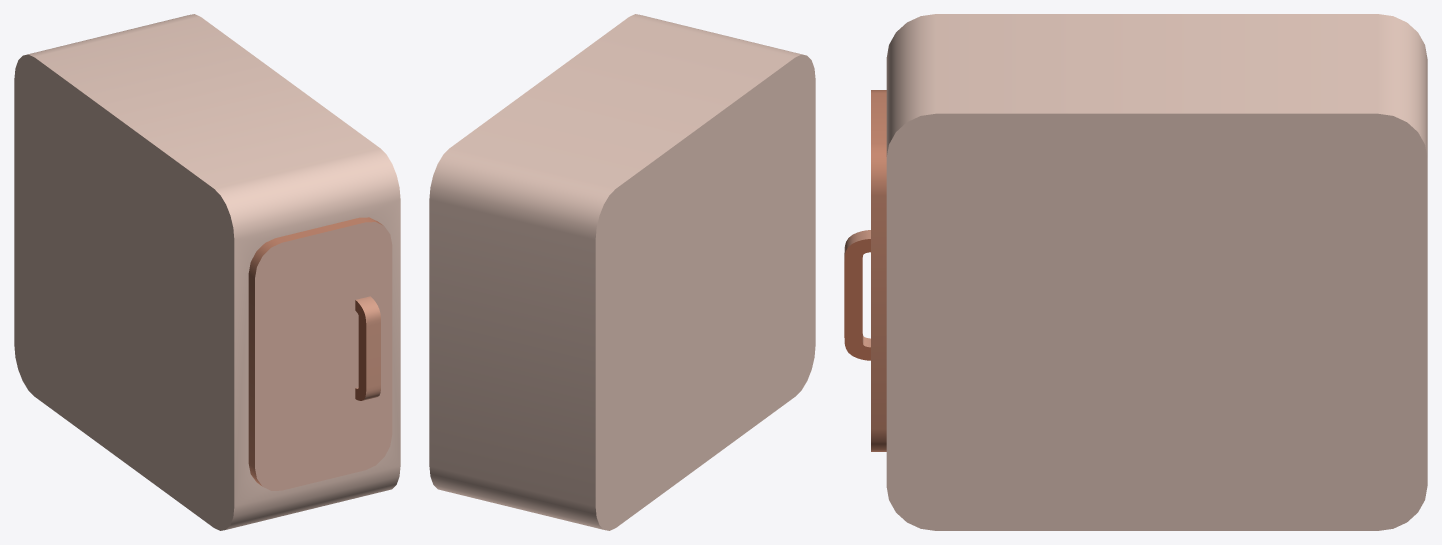
The model's file is Cupboard E.fbx.
The picture shows the model from 3 angles, left to right: view 1: azimuth 30°, elevation 25°; view 2: azimuth 150°, elevation 25°; view 3: azimuth 270°, elevation 25°; orthographic projection. The views are drawn at different scales.
Parts seen in each view (by area): view 1: Cupboard.015, Cupboard.016; view 2: Cupboard.015; view 3: Cupboard.015, Cupboard.016.
Boxes of the visible parts, x1,y1,x2,y2 form: Cupboard.015: (14,14,400,530); Cupboard.016: (248,217,392,490); Cupboard.015: (429,14,815,530); Cupboard.015: (886,14,1427,530); Cupboard.016: (844,90,886,451).
Size of the model in its own units: 0.7201 by 1.4 by 1.78.
